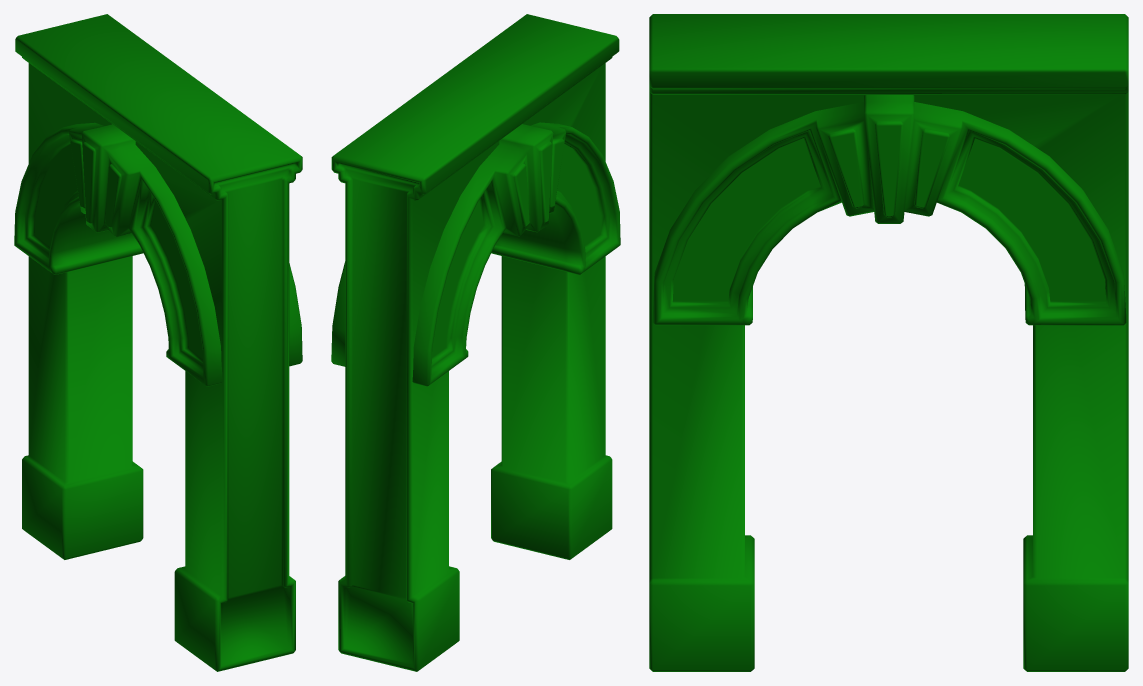
Rendered from W1_Arche_3.fbx.
3 renders of one model, left to right at view 1: azimuth 30°, elevation 25°; view 2: azimuth 150°, elevation 25°; view 3: azimuth 270°, elevation 25°, orthographic. The views are drawn at different scales.
Visible parts, largest first — view 1: W1_Arche_3; view 2: W1_Arche_3; view 3: W1_Arche_3.
Boxes of the visible parts, x1,y1,x2,y2 form: W1_Arche_3: [14, 14, 302, 671]; W1_Arche_3: [331, 14, 620, 671]; W1_Arche_3: [649, 14, 1128, 671].
Size of the model in its own units: 210 by 700 by 500.
